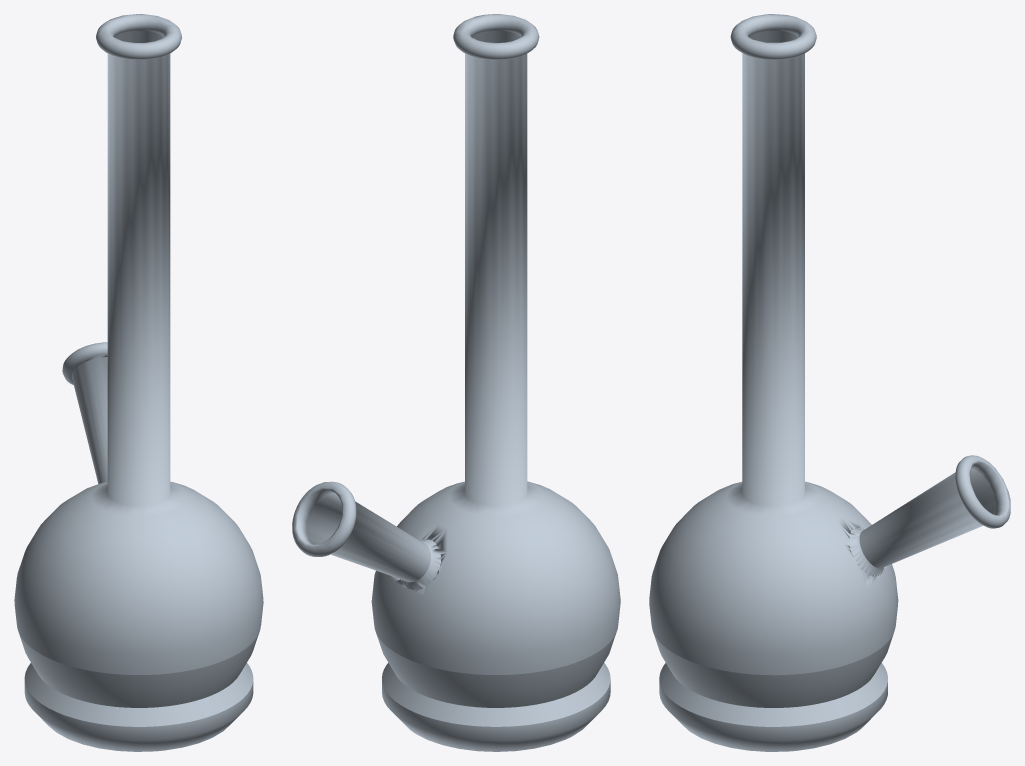
Rendered from bong.glb.
The picture shows the model from 3 angles, left to right: view 1: azimuth 30°, elevation 25°; view 2: azimuth 150°, elevation 25°; view 3: azimuth 270°, elevation 25°; orthographic projection.
Visible parts, largest first — view 1: Sphere.001_1; view 2: Sphere.001_1; view 3: Sphere.001_1.
Boxes of the visible parts, x1=… form: Sphere.001_1: x1=14, y1=14, x2=263, y2=751; Sphere.001_1: x1=292, y1=14, x2=620, y2=751; Sphere.001_1: x1=649, y1=14, x2=1010, y2=751.
Size of the model in its own units: 2 by 6.04 by 2.9.
